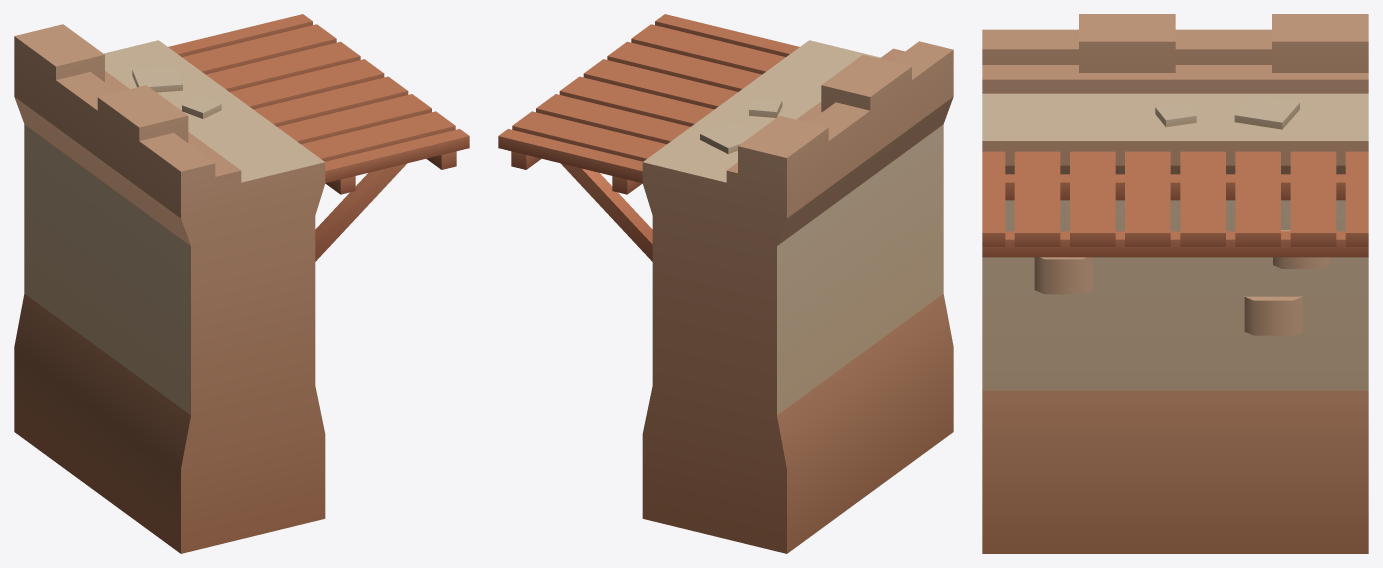
The model's file is wall-narrow-wood.glb.
3 renders of one model, left to right at view 1: azimuth 30°, elevation 25°; view 2: azimuth 150°, elevation 25°; view 3: azimuth 270°, elevation 25°, orthographic. The views are drawn at different scales.
Visible parts, largest first — view 1: wall-narrow-wood; view 2: wall-narrow-wood; view 3: wall-narrow-wood.
Part boxes in pixels (x1,y1,x2,y2): wall-narrow-wood: [14, 14, 469, 553]; wall-narrow-wood: [498, 14, 953, 553]; wall-narrow-wood: [982, 14, 1368, 553].
Size of the model in its own units: 1 by 1.31 by 1.
